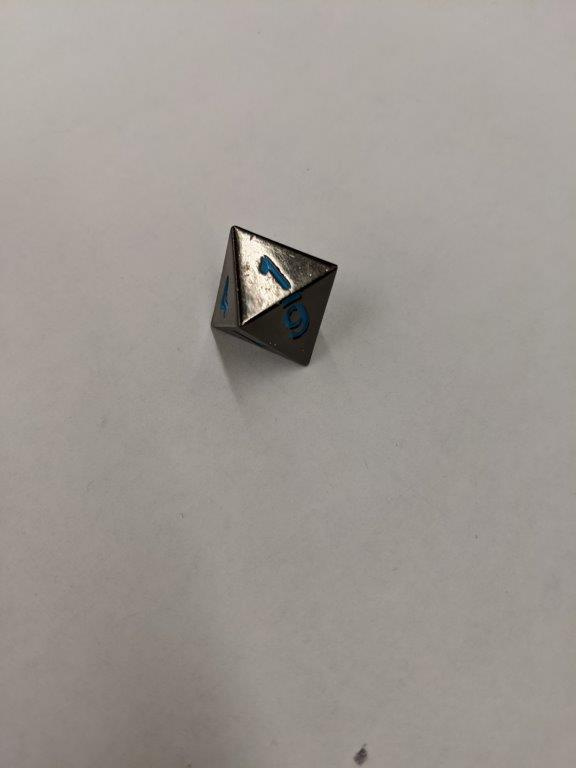d8-1: (204, 222, 340, 370)
